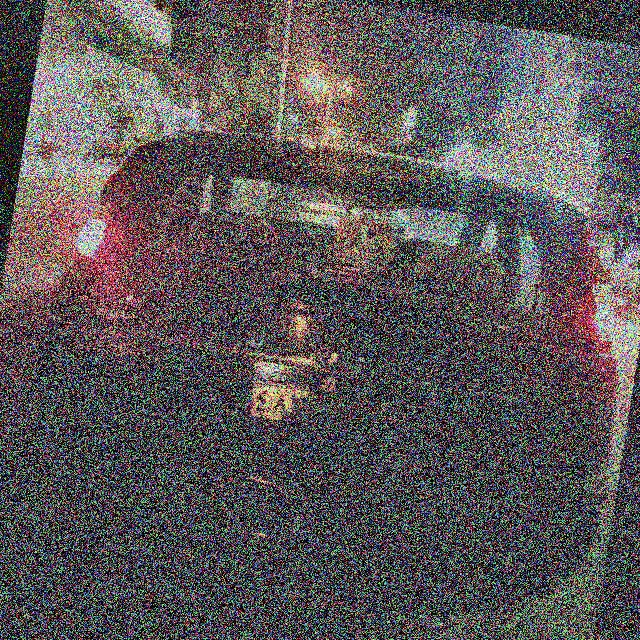License Plate: (244, 358, 412, 441)
